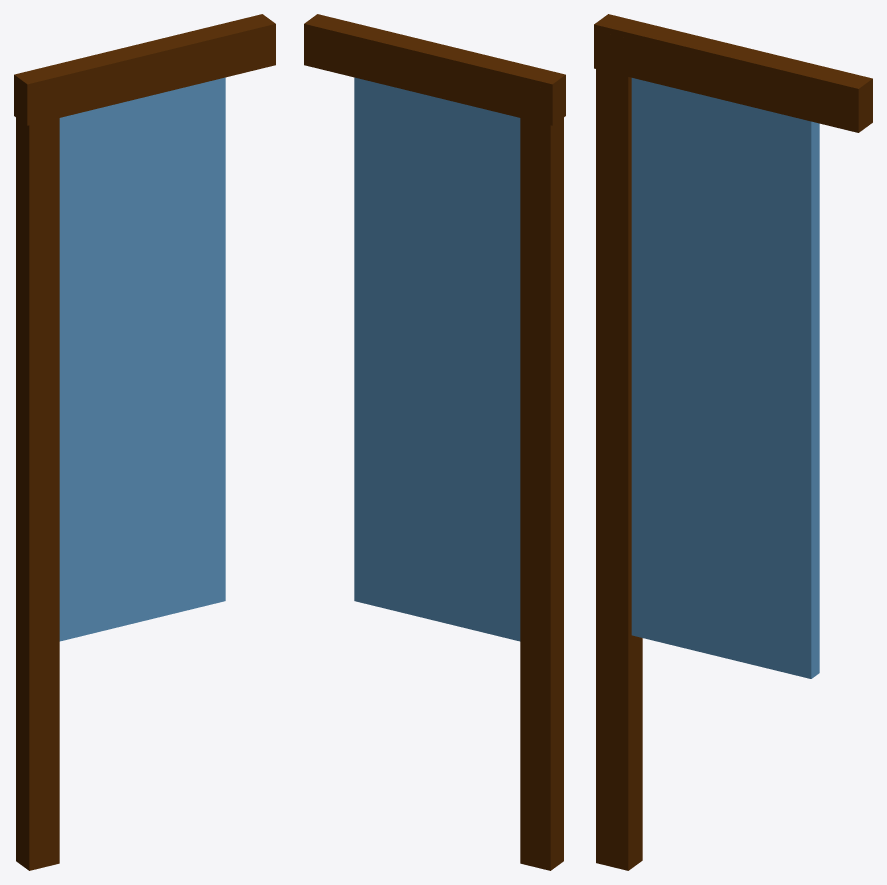
The model's file is flag.fbx.
The picture shows the model from 3 angles, left to right: view 1: azimuth 30°, elevation 25°; view 2: azimuth 150°, elevation 25°; view 3: azimuth 330°, elevation 25°; orthographic projection. The views are drawn at different scales.
Parts seen in each view (by area): view 1: pCube1; view 2: pCube1; view 3: pCube1.
Part boxes in pixels (x1,y1,x2,y2): pCube1: [14, 14, 275, 870]; pCube1: [304, 14, 565, 870]; pCube1: [594, 14, 872, 870].
Bounding box in the file's own units: 258 × 781 × 24.12.
